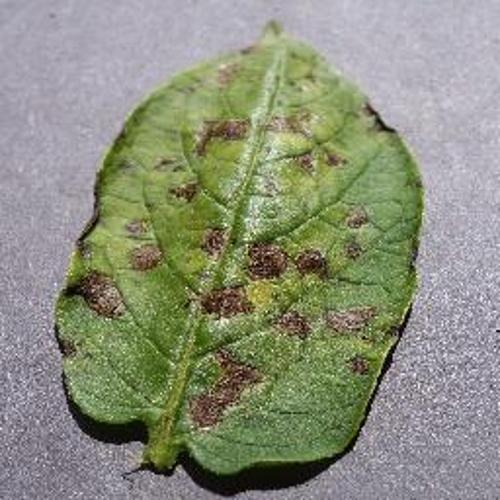Potato: (57, 20, 424, 474)
